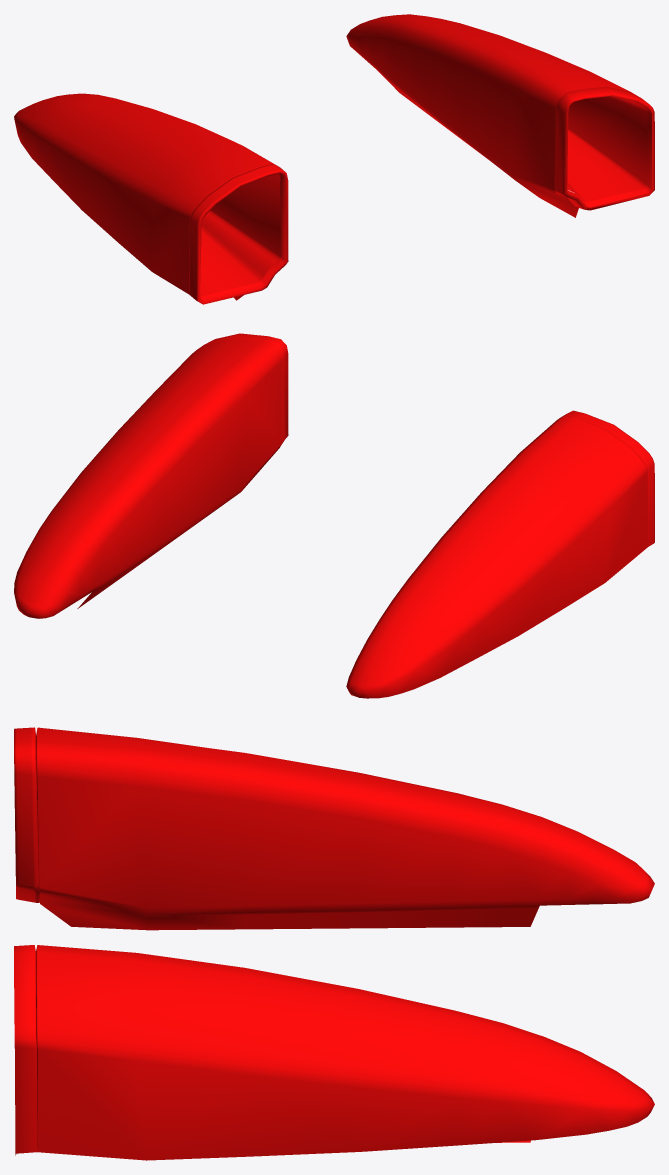
File: Veyron_Roof01_Trim.fbx
The picture shows the model from 3 angles, top to bottom: view 1: azimuth 30°, elevation 25°; view 2: azimuth 150°, elevation 25°; view 3: azimuth 270°, elevation 25°; orthographic projection. The views are drawn at different scales.
Visible parts, largest first — view 1: Veyron_Roof01_Trim; view 2: Veyron_Roof01_Trim; view 3: Veyron_Roof01_Trim.
Boxes of the visible parts, x1,y1,x2,y2 form: Veyron_Roof01_Trim: (14,14,654,304); Veyron_Roof01_Trim: (14,333,654,698); Veyron_Roof01_Trim: (14,727,654,1160).
Bounding box in the file's own units: 106 × 31.26 × 94.09.
